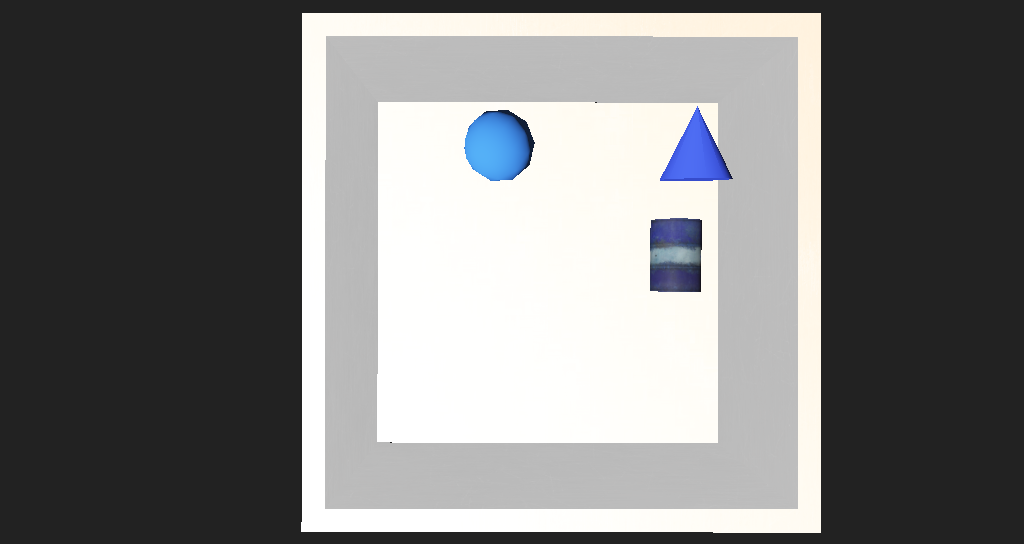cone: (593, 234, 647, 282)
cylinder: (603, 157, 677, 215)
sphere: (435, 169, 495, 212)
